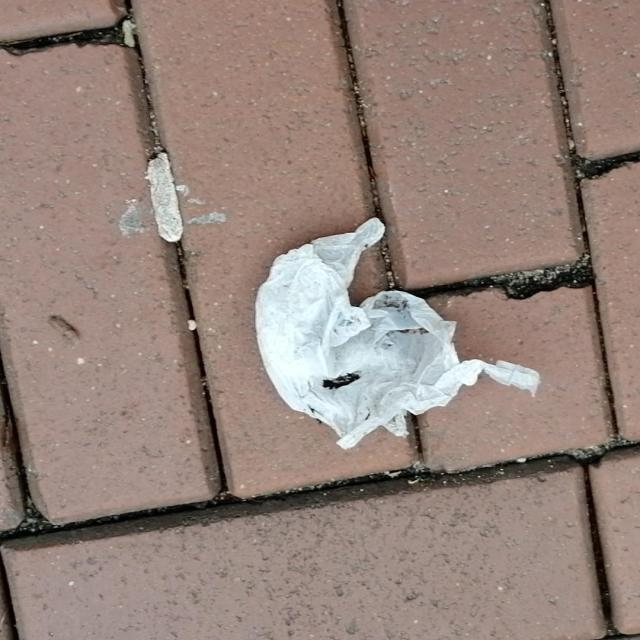Paper: (253, 216, 542, 452)
